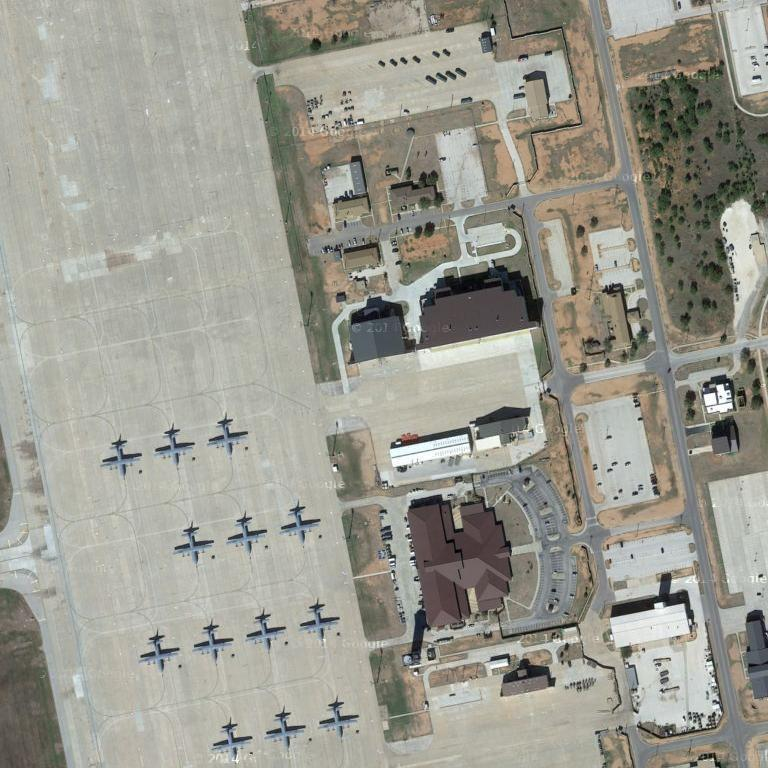C-130: (208, 421, 253, 461), (136, 636, 183, 673), (101, 442, 145, 481), (277, 509, 323, 546), (155, 429, 196, 470), (244, 615, 288, 653), (225, 520, 269, 557), (210, 724, 255, 760), (262, 714, 306, 750), (317, 706, 362, 739), (174, 530, 215, 566), (298, 606, 341, 640), (193, 625, 232, 662)
